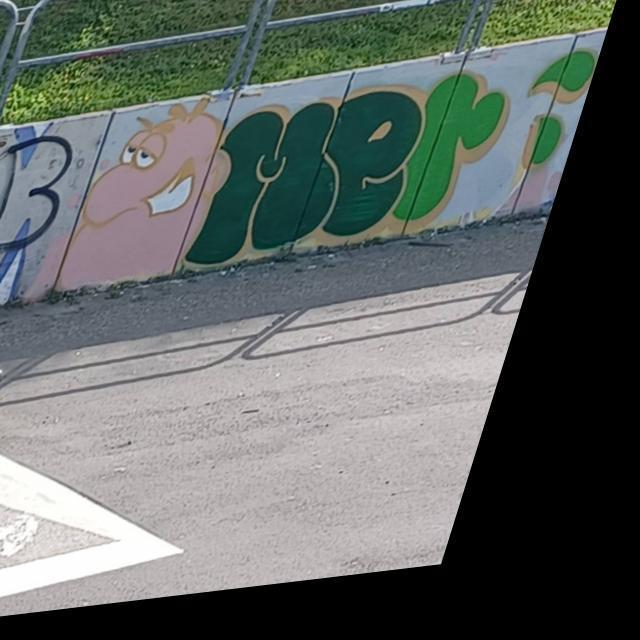-: (204, 48, 613, 284), (83, 100, 250, 294), (0, 121, 91, 312)
